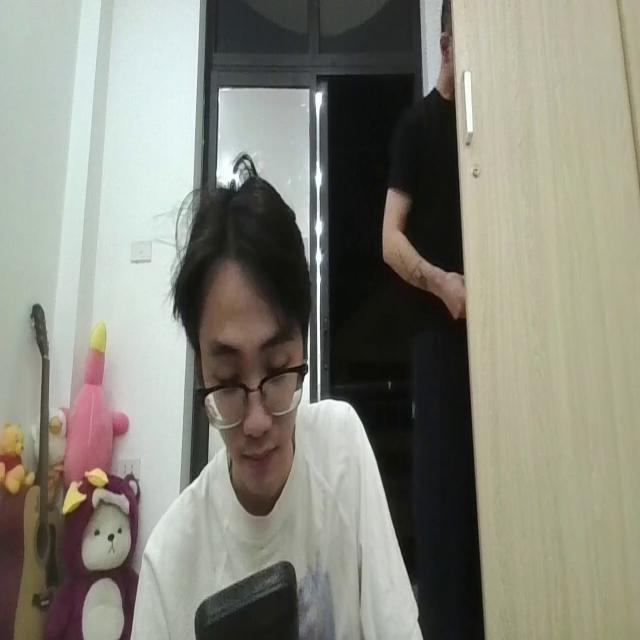extra_person: (387, 0, 474, 640)
phone: (190, 553, 300, 640)
student: (137, 135, 421, 640)
